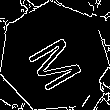M_NE: (21, 24, 87, 90)
